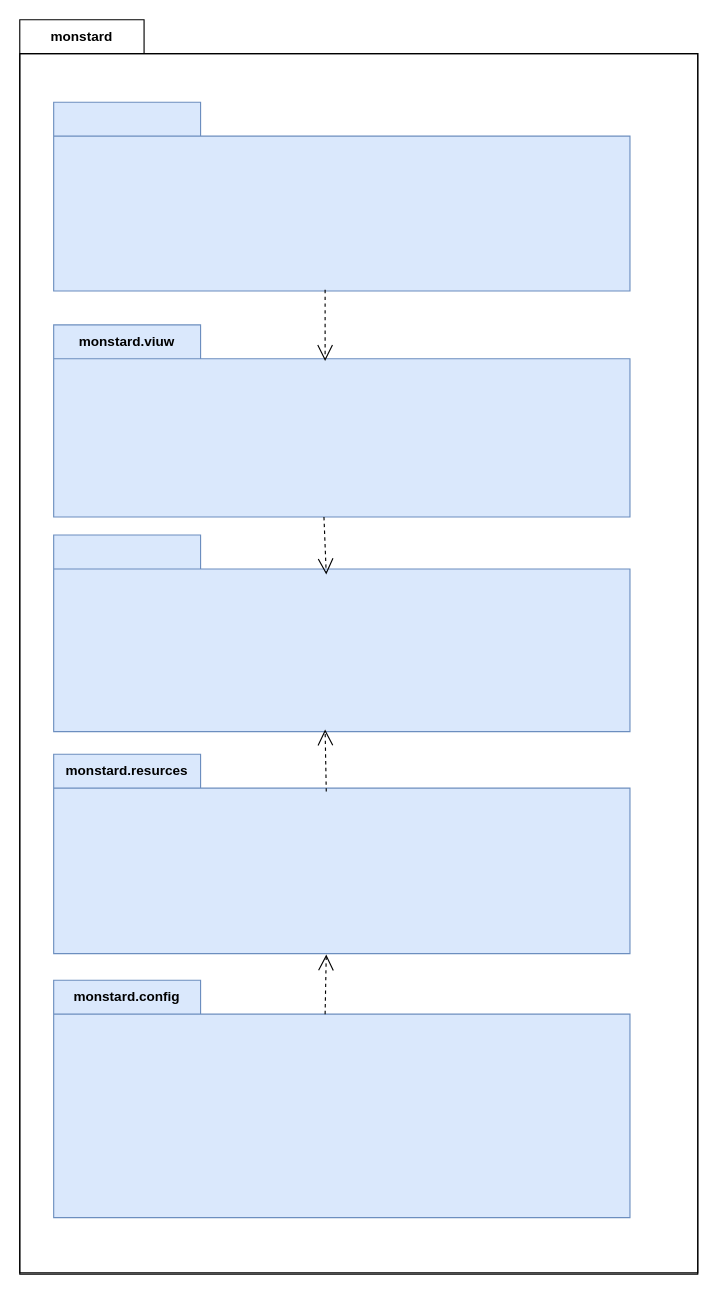
The diagram is 718 pixels wide and 1303 high, and some of its shapes have lost their labels. Each missing label, with the centre of its shape:
"monstard.controller" belongs at (x=341, y=633).
"monstard.model" belongs at (x=341, y=196).
